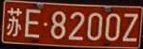E: (25, 9, 41, 38)
